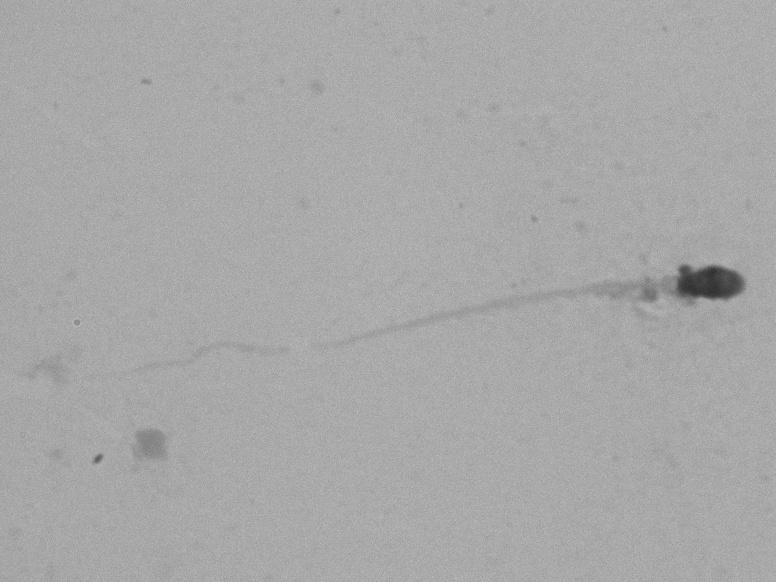Abnormal: (103, 227, 755, 415)
